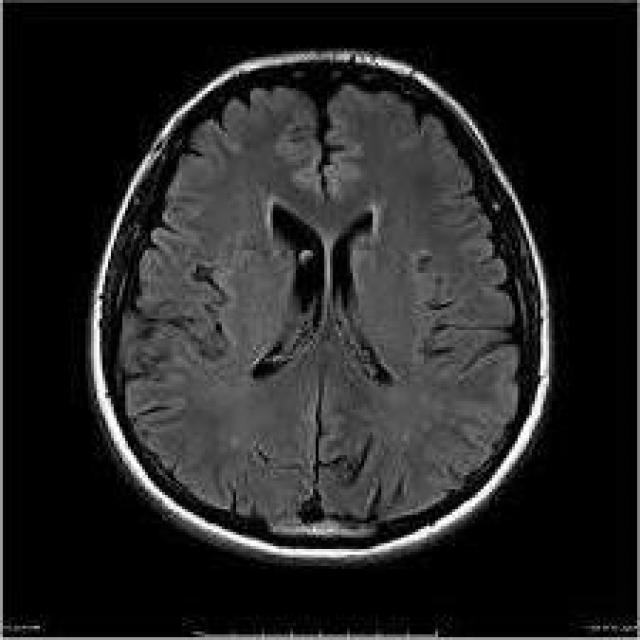notumor: (91, 57, 549, 563)
